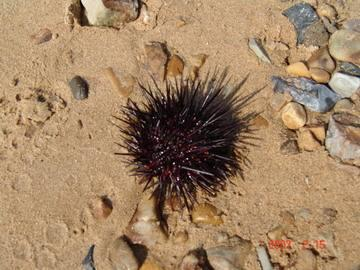urchin: (108, 66, 264, 212)
